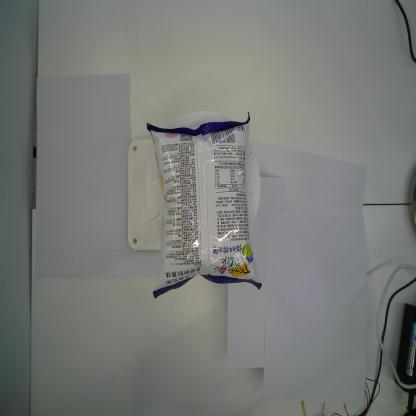Puffed Food: (144, 109, 262, 302)
